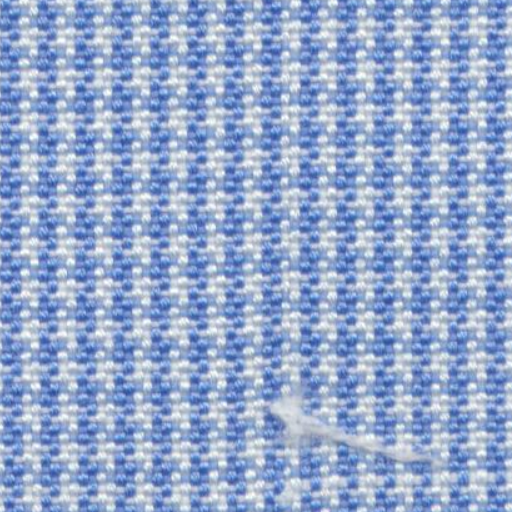DuanSha: (241, 375, 452, 470)
